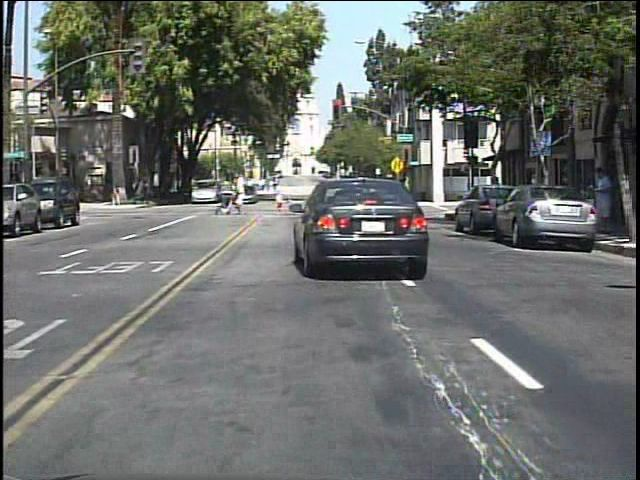person: (593, 162, 616, 229), (231, 174, 252, 216), (112, 182, 126, 208), (142, 177, 143, 206)
